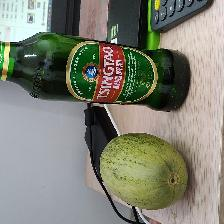gua: (102, 133, 183, 204)
